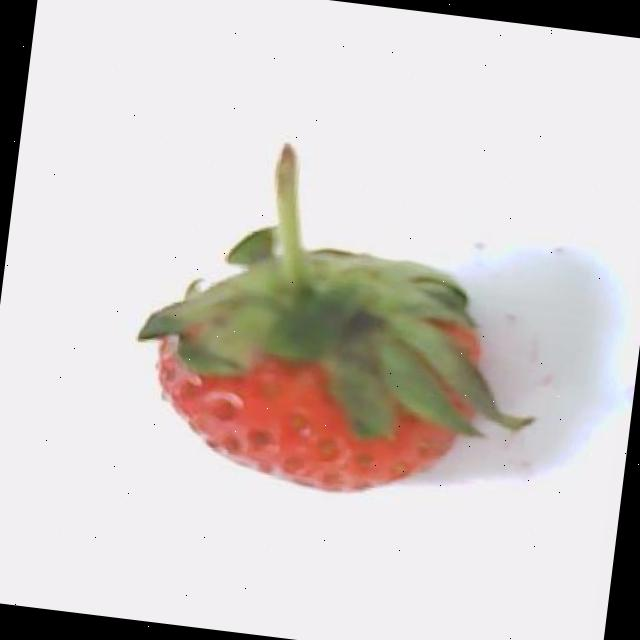strawberry: (137, 142, 530, 489)
